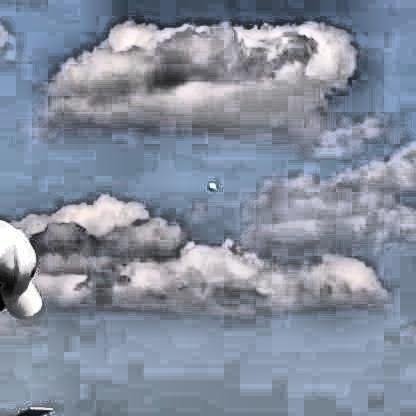golfball: (207, 178, 218, 193)
